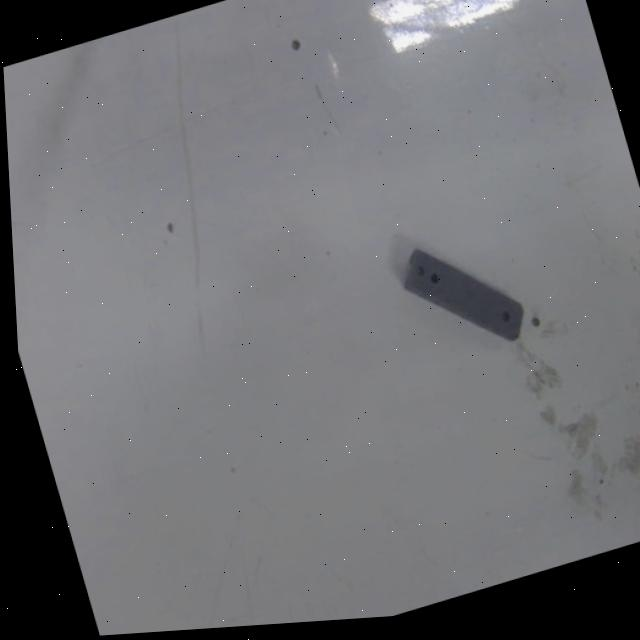grey: (389, 218, 532, 371)
head: (496, 307, 512, 326)
